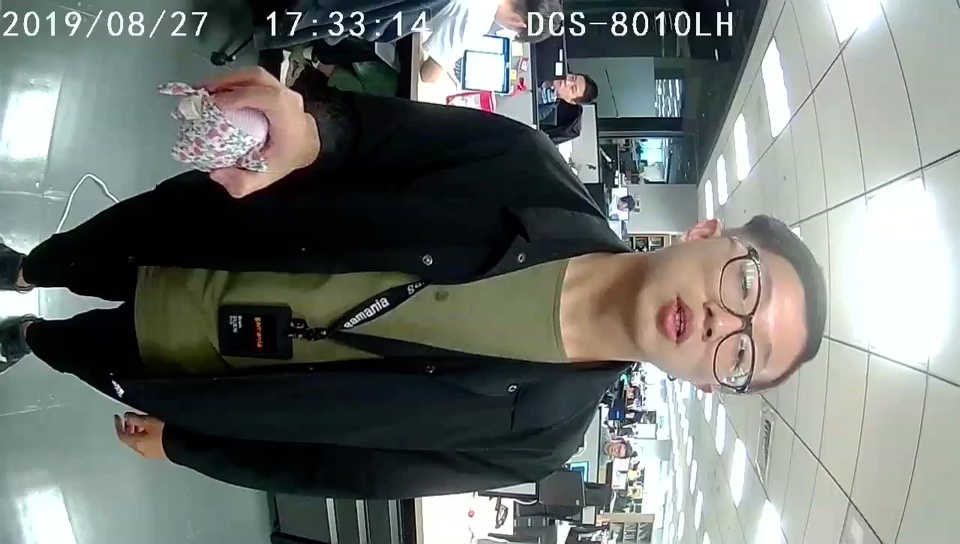pig: (170, 92, 273, 178)
